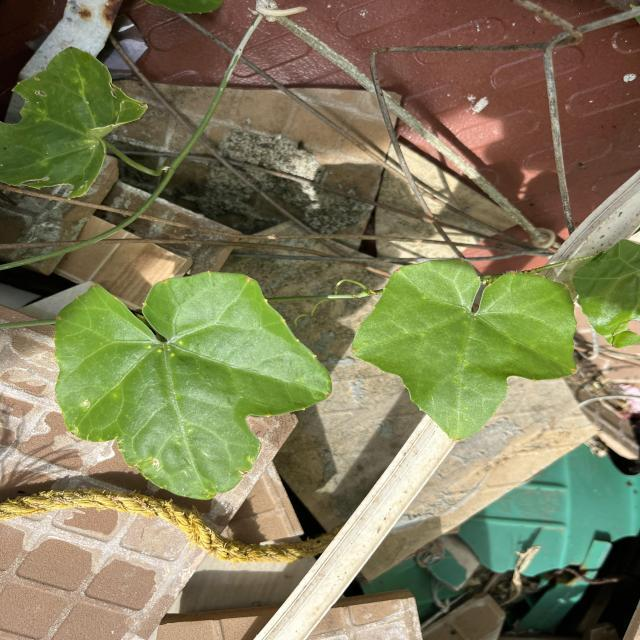Coccinia grandis: (53, 270, 334, 502), (350, 256, 580, 442)
